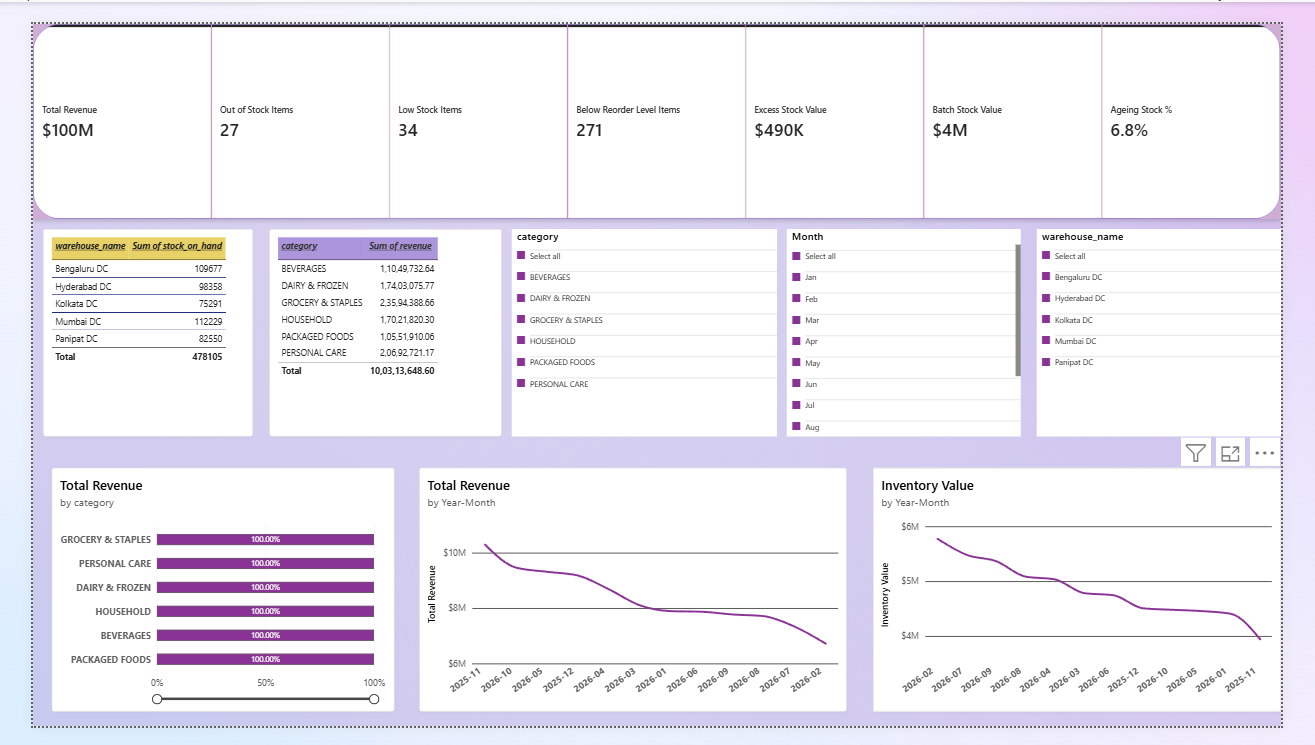

What the dashboard file says about the page in this screenshot:
{"tool":"powerbi","page":{"name":"Overview","canvas":[1920,1080],"ordinal":0},"visuals":[{"type":"tableEx","fields":{"Values":["dim_warehouse.warehouse_name","Sum(fact_inventory_snapshot.stock_on_hand)"]},"box":[15.4,315.4,323.1,319.2],"z":0},{"type":"cardVisual","fields":{"Data":["_Measures.Total Revenue","_Measures.Out of Stock Items","_Measures.Low Stock Items","_Measures.Below Reorder Level Items","_Measures.Excess Stock Value","_Measures.Batch Stock Value","_Measures.Ageing Stock %"]},"box":[0,0,1919.2,300],"z":1000},{"type":"tableEx","fields":{"Values":["dim_product.category","Sum(fact_sales.revenue)"]},"box":[363.5,315.4,357.7,319.2],"z":2000},{"type":"slicer","fields":{"Values":["dim_product.category"]},"box":[736.5,315.4,407.7,319.2],"z":3000},{"type":"slicer","fields":{"Values":["dim_date.Month"]},"box":[1159.6,315.4,359.6,319.2],"z":4000},{"type":"slicer","fields":{"Values":["dim_warehouse.warehouse_name"]},"box":[1544.2,315.4,376.9,319.2],"z":5000},{"type":"lineChart","fields":{"Category":["dim_date.Year-Month"],"Y":["_Measures.Total Revenue"]},"box":[594.2,682.7,657.7,375],"z":6000},{"type":"lineChart","fields":{"Category":["dim_date.Year-Month"],"Y":["_Measures.Inventory Value"]},"box":[1292.3,682.7,626.9,375],"z":7000},{"type":"hundredPercentStackedBarChart","fields":{"Category":["dim_product.category"],"Y":["_Measures.Total Revenue"]},"box":[28.8,682.7,526.9,375],"z":8000}]}

Visuals, with their boxes in screenshot pixels (x1, y1, x2, y2), scaled from the page's 1920x1080 canvas onto the 1315x745 screenshot:
tableEx - dim_warehouse.warehouse_name x Sum(fact_inventory_snapshot.stock_on_hand): bbox=(11, 218, 232, 438)
cardVisual - _Measures.Total Revenue x _Measures.Out of Stock Items: bbox=(0, 0, 1314, 207)
tableEx - dim_product.category x Sum(fact_sales.revenue): bbox=(249, 218, 494, 438)
slicer - dim_product.category: bbox=(504, 218, 784, 438)
slicer - dim_date.Month: bbox=(794, 218, 1040, 438)
slicer - dim_warehouse.warehouse_name: bbox=(1058, 218, 1314, 438)
lineChart - dim_date.Year-Month x _Measures.Total Revenue: bbox=(407, 471, 857, 730)
lineChart - dim_date.Year-Month x _Measures.Inventory Value: bbox=(885, 471, 1314, 730)
hundredPercentStackedBarChart - dim_product.category x _Measures.Total Revenue: bbox=(20, 471, 381, 730)
